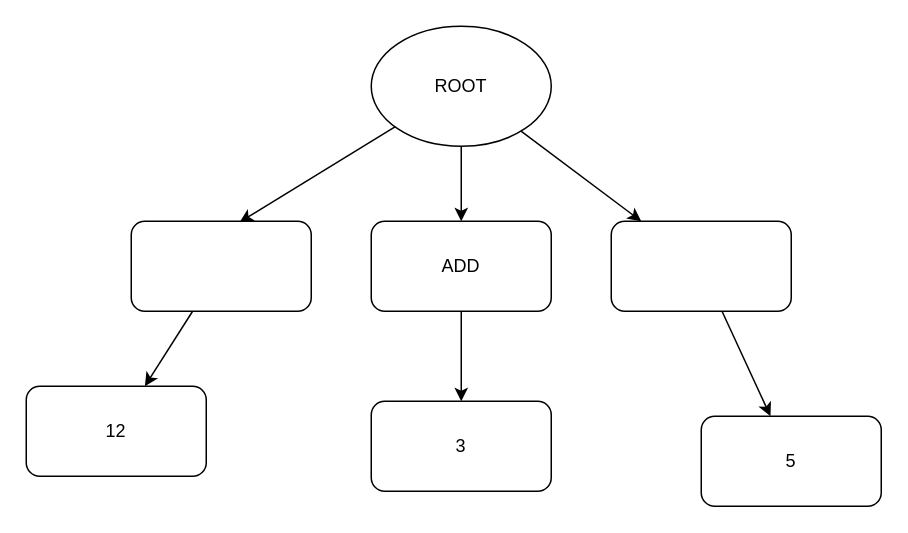
Image size: 908x533. Some labels were removed from this diagram. Here are the shapes that lost their labels. From the top down, the centre of each, then its label:
point (220, 265): PUSH
point (700, 265): SUB
